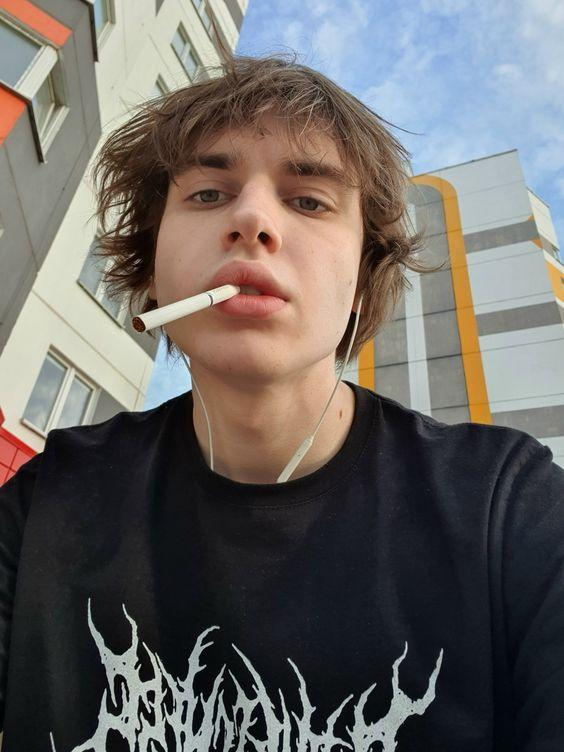cigarette: (132, 284, 241, 333)
